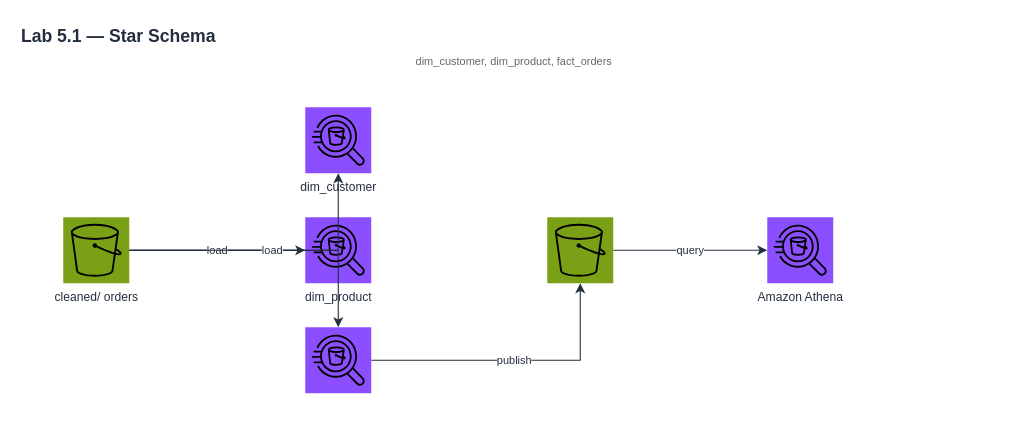
The diagram is 1027 pixels wide and 433 high, and some of its shapes have lost their labels. Each missing label, with the box of its shape:
curated/ retail/: (547, 217, 613, 283)
fact_orders: (305, 327, 371, 393)
